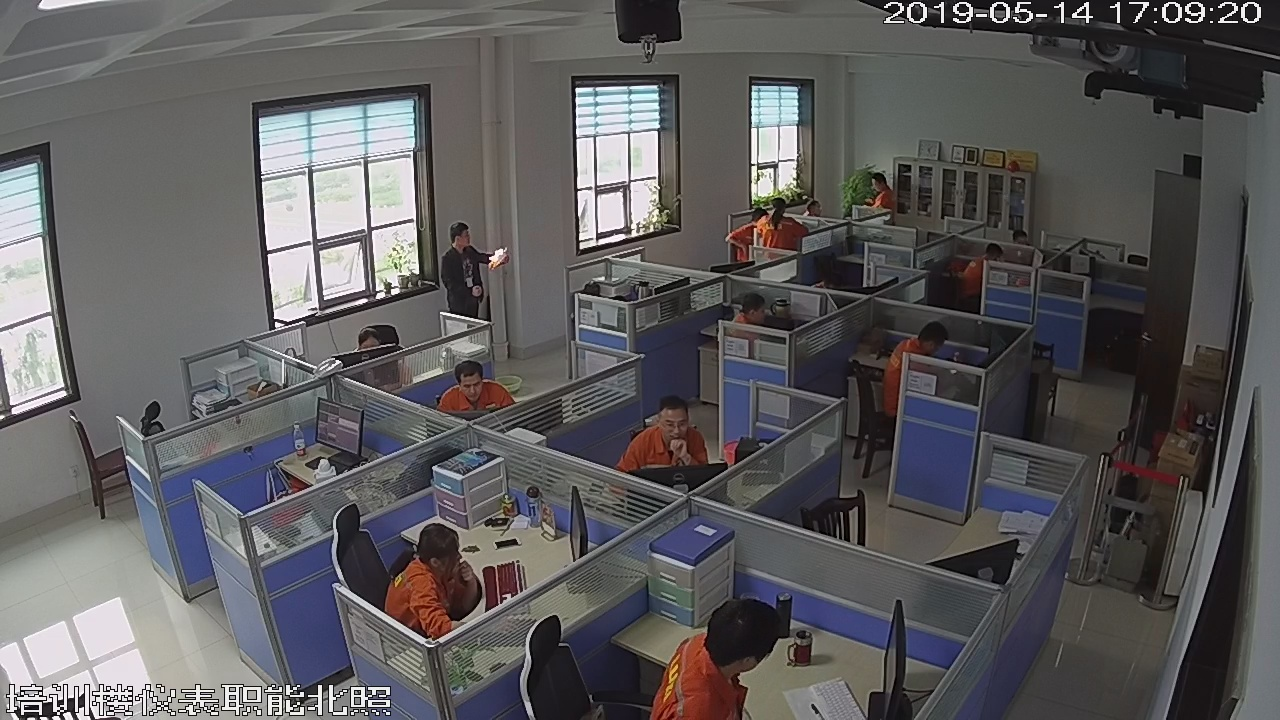fire: (484, 242, 510, 271)
